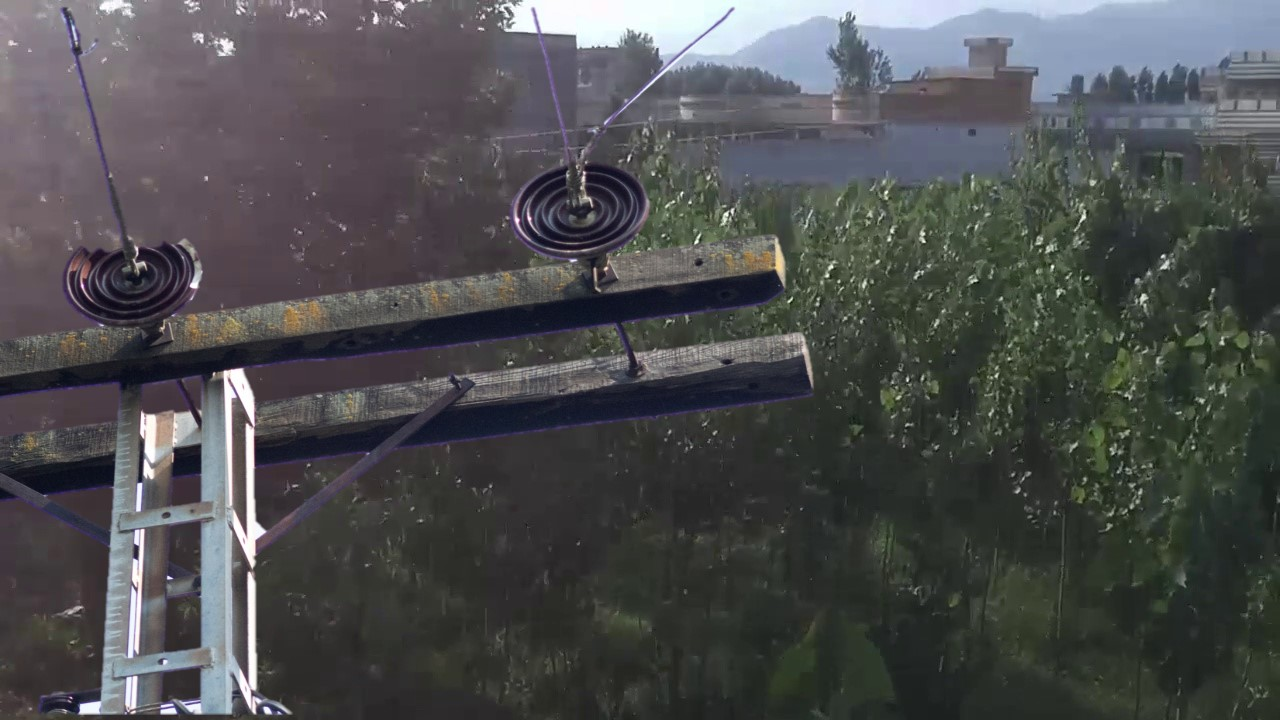defect_disc: (61, 229, 212, 324)
insulator_disc: (507, 156, 656, 265)
